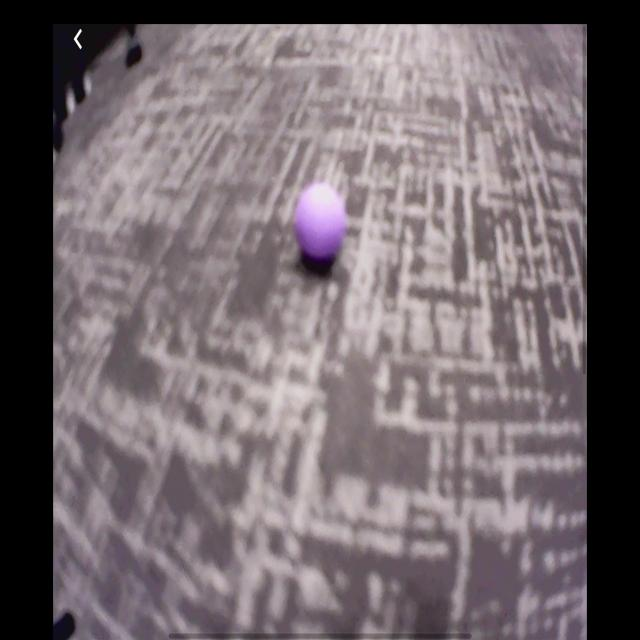ball: (294, 181, 348, 266)
